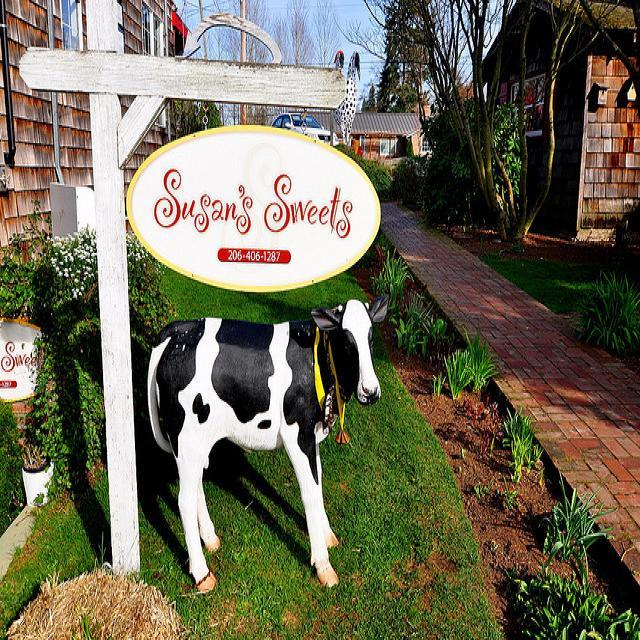cow: (147, 300, 387, 590)
